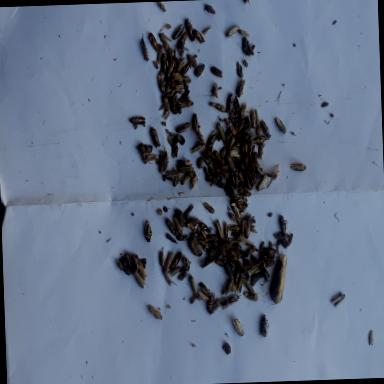pbw: (220, 294, 242, 310), (132, 255, 146, 280), (139, 32, 150, 63), (209, 216, 223, 240), (170, 248, 184, 270), (290, 157, 306, 176), (199, 150, 214, 170), (238, 234, 256, 250), (132, 270, 148, 288), (163, 269, 178, 288), (232, 319, 246, 339), (240, 38, 254, 58), (188, 237, 202, 257), (158, 151, 170, 174), (213, 121, 226, 142), (196, 128, 206, 154), (199, 198, 215, 214), (146, 304, 162, 320), (277, 214, 288, 237), (235, 260, 249, 278), (196, 232, 210, 250), (185, 17, 195, 42), (260, 258, 270, 283), (164, 218, 177, 237), (243, 169, 254, 191), (260, 314, 270, 338), (148, 32, 160, 52), (192, 28, 206, 45), (230, 201, 242, 220), (242, 217, 252, 239), (256, 174, 268, 192), (143, 220, 152, 244), (158, 32, 172, 47), (171, 25, 185, 40), (225, 25, 241, 38), (242, 278, 255, 294), (198, 282, 211, 298), (176, 33, 188, 50), (181, 252, 193, 269), (236, 77, 246, 97), (260, 118, 270, 138), (239, 144, 249, 164), (150, 128, 160, 148), (275, 116, 286, 134), (332, 294, 346, 308), (249, 271, 262, 286), (182, 202, 194, 218), (212, 102, 228, 114), (188, 142, 204, 154), (214, 149, 226, 165), (129, 116, 146, 127), (188, 274, 197, 294), (208, 300, 220, 315), (206, 294, 216, 312), (164, 250, 174, 268), (243, 290, 258, 302), (139, 142, 147, 164), (207, 134, 218, 150), (175, 122, 192, 132), (236, 126, 249, 139), (158, 75, 166, 96), (210, 66, 224, 78), (194, 64, 206, 78), (172, 70, 184, 84), (173, 216, 182, 234), (161, 96, 170, 114), (232, 194, 248, 204), (136, 144, 152, 154), (203, 4, 216, 16), (186, 54, 197, 68), (201, 258, 215, 269), (248, 142, 255, 164), (228, 248, 239, 262), (216, 241, 233, 250), (179, 100, 194, 110), (226, 154, 234, 172), (228, 212, 240, 224), (166, 60, 174, 78), (248, 262, 260, 274), (228, 172, 236, 190), (176, 209, 184, 227), (180, 62, 191, 75), (202, 167, 213, 180), (197, 226, 207, 240), (176, 58, 186, 72), (227, 94, 234, 114), (240, 102, 248, 119), (166, 233, 178, 244), (237, 28, 250, 38), (238, 188, 251, 198), (171, 84, 184, 94), (367, 330, 375, 346), (250, 136, 266, 144), (158, 246, 164, 267), (228, 224, 242, 233), (227, 135, 236, 149), (248, 170, 255, 188), (231, 203, 249, 210), (156, 1, 167, 12), (214, 257, 225, 268), (180, 174, 190, 186), (126, 251, 134, 266), (172, 172, 180, 187), (262, 247, 277, 255), (184, 218, 199, 226), (236, 62, 243, 79), (225, 263, 232, 280), (255, 120, 262, 136), (156, 48, 163, 64), (223, 132, 231, 146), (180, 74, 192, 83), (222, 222, 228, 240), (160, 54, 166, 72), (192, 114, 198, 132), (250, 108, 255, 129), (232, 171, 238, 188), (178, 166, 195, 172), (170, 268, 180, 278), (198, 291, 209, 300), (264, 259, 276, 267), (237, 278, 243, 294), (285, 234, 293, 246), (234, 270, 240, 286), (258, 242, 265, 255), (216, 180, 227, 188), (229, 149, 240, 157), (188, 223, 196, 234), (178, 271, 186, 281), (238, 171, 244, 184), (255, 108, 259, 126), (189, 296, 198, 304), (256, 166, 263, 176), (178, 234, 188, 240), (274, 234, 284, 238)
